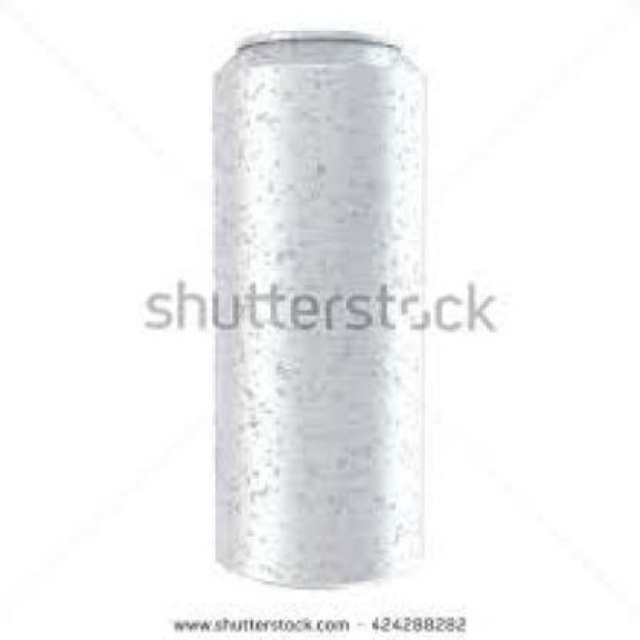trash: (212, 31, 426, 585)
